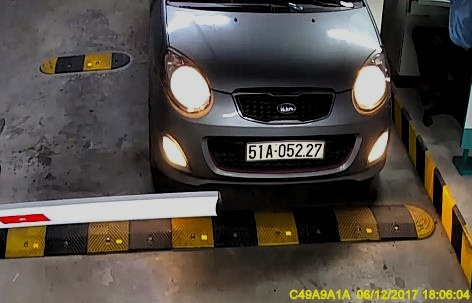plate: (242, 137, 328, 164)
